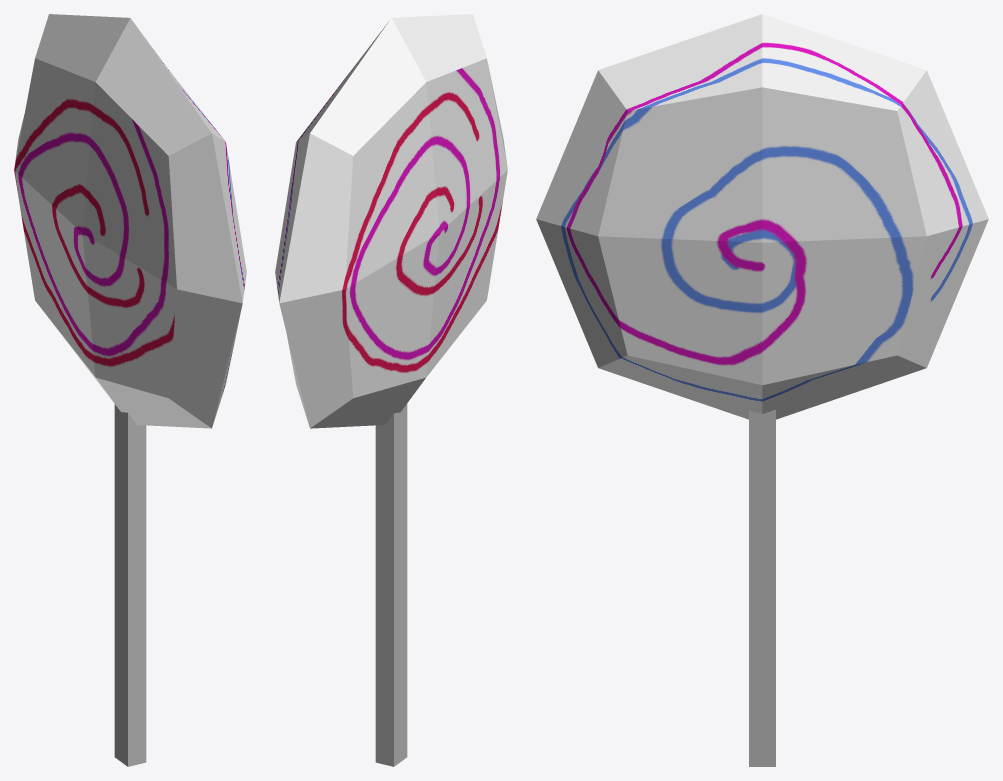
Rendered from candy.obj.
3 views of the same model, side by side, from view 1: azimuth 30°, elevation 25°; view 2: azimuth 150°, elevation 25°; view 3: azimuth 270°, elevation 25° (orthographic).
Visible parts, largest first — view 1: Cube; view 2: Cube; view 3: Cube.
Part boxes in pixels (bbox=[...]): Cube: bbox=[14, 14, 246, 766]; Cube: bbox=[275, 14, 507, 766]; Cube: bbox=[536, 14, 988, 766].
Bounding box in the file's own units: 0.4153 × 3.06 × 1.68.
